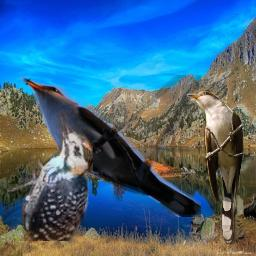Cuckoo: (19, 75, 201, 217), (187, 90, 244, 244)
Woodpecker: (7, 110, 93, 241)
